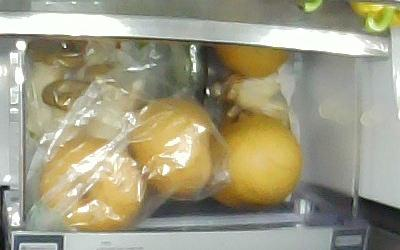pear: (206, 110, 302, 208), (212, 44, 289, 77)
pear_vinyl: (37, 134, 145, 232), (126, 95, 214, 199)
